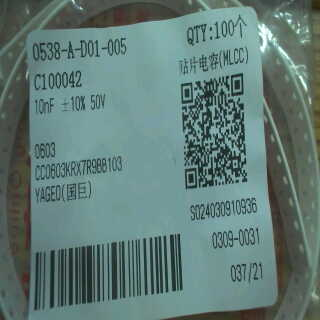10nF: (32, 93, 59, 118)
